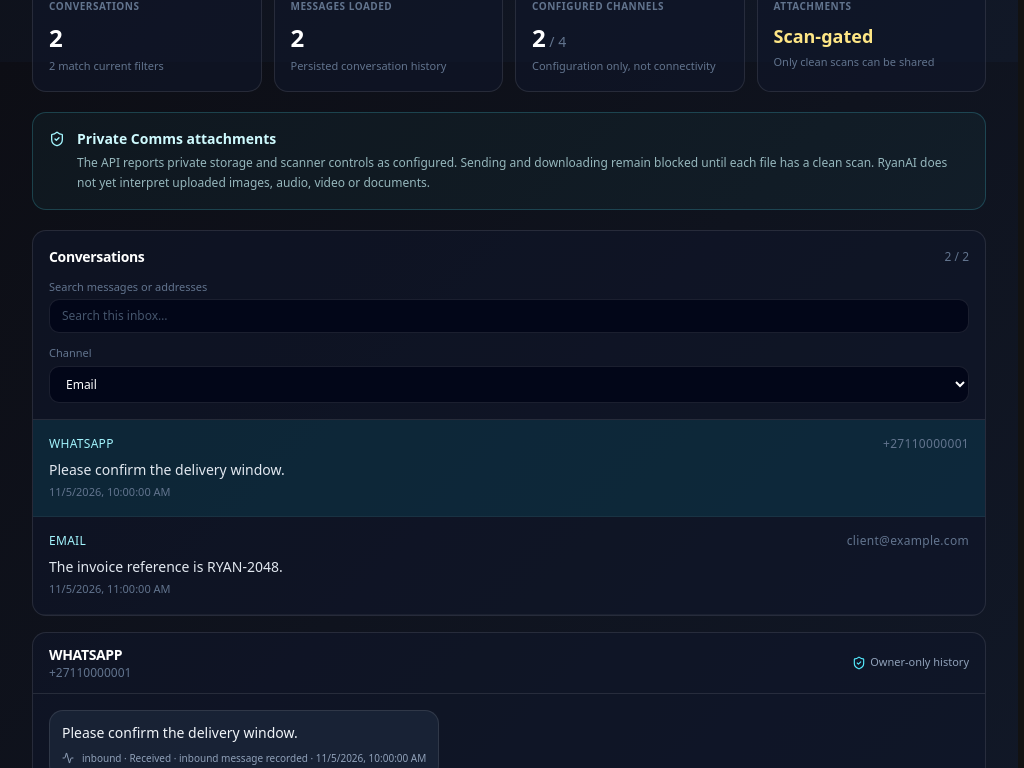
Scenario: RyanAI Comms inbox controls › filters the conversation list by channel
(page scrolled)
Select "Email" in the dropdown labelled "Channel" at (509, 384), box [49,366,969,402]
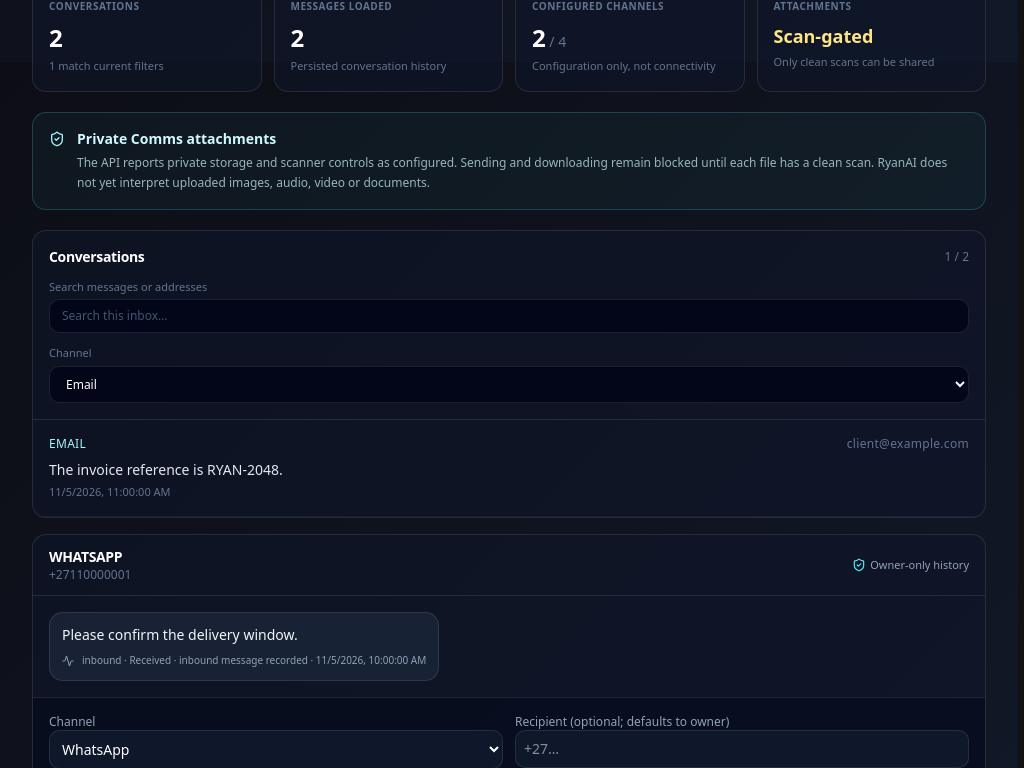
Check: the text "client@example.com" is shown, box [33,420,985,517]
Check: the text "1 / 2" is shown, box [944,248,969,264]
Check: the text "+27110000001" is gone
